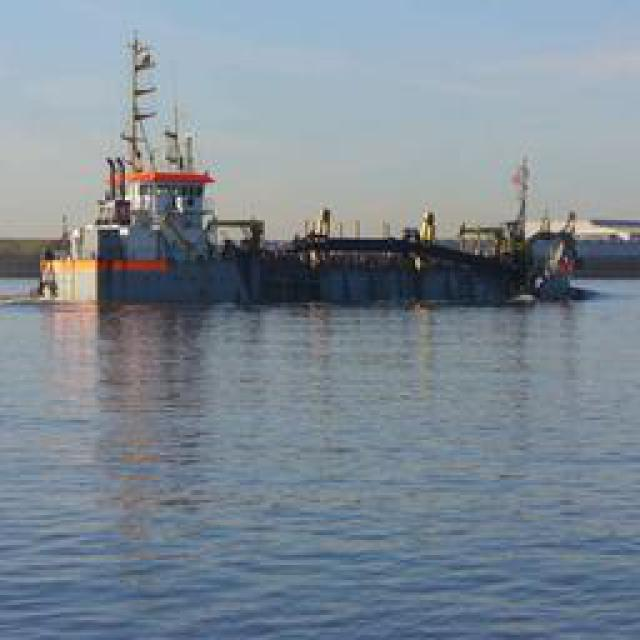Ship: (21, 30, 585, 311)
